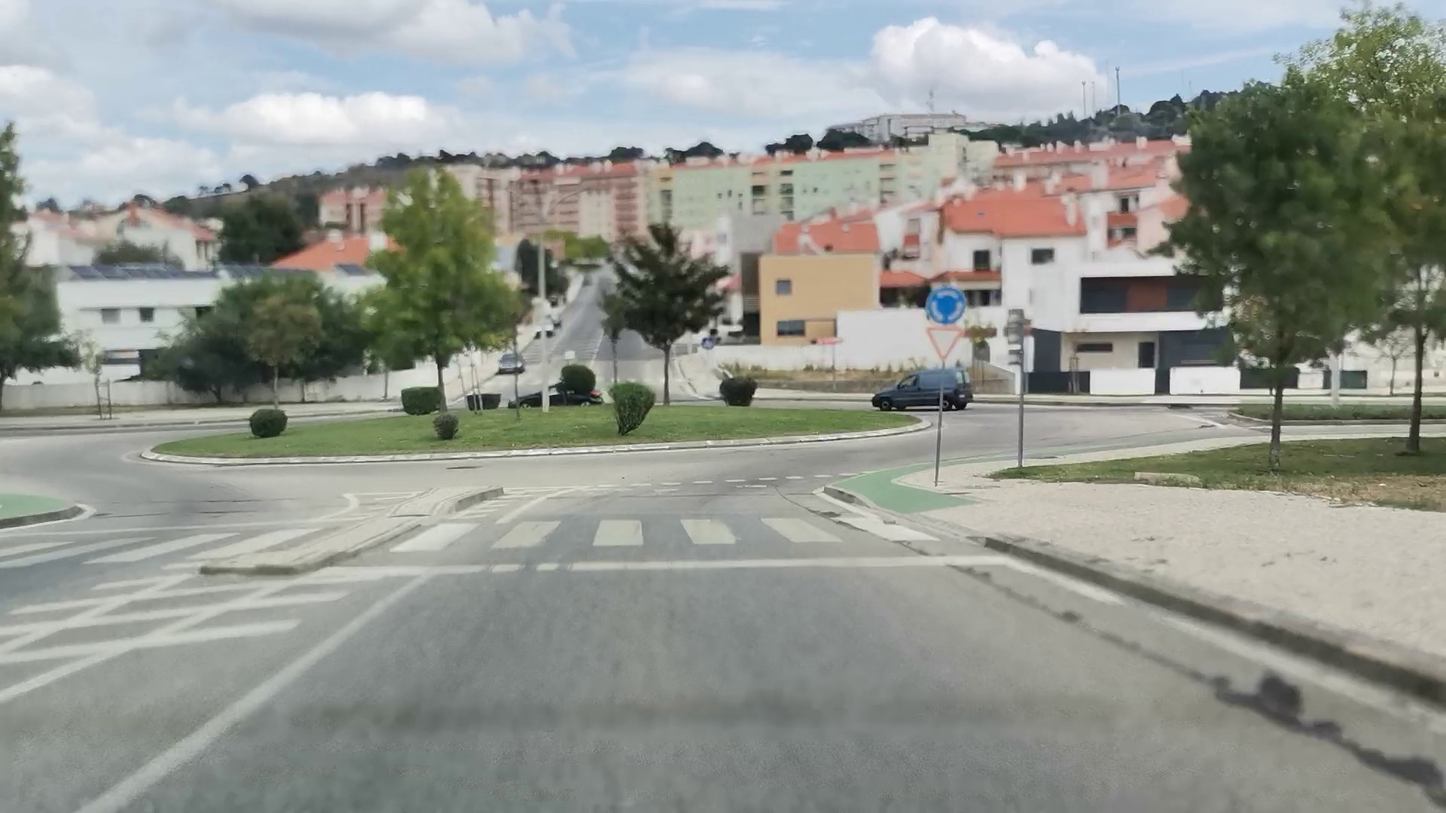Stairs: (375, 509, 939, 555), (0, 518, 324, 571)
